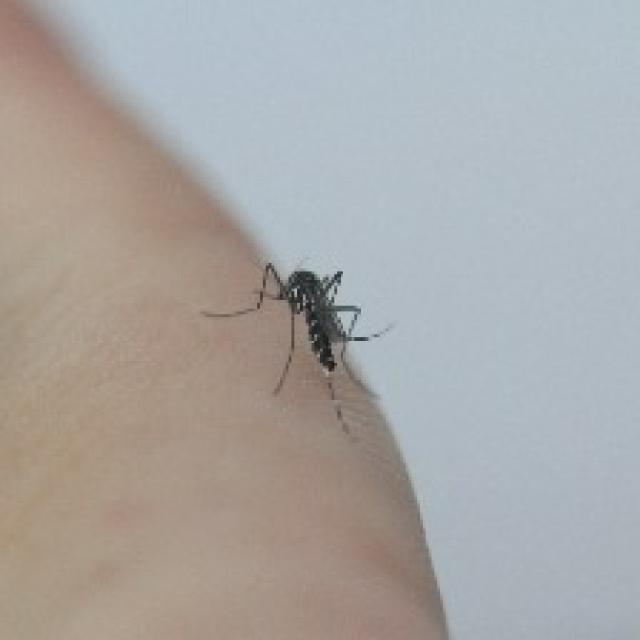aedes: (200, 257, 391, 434)
